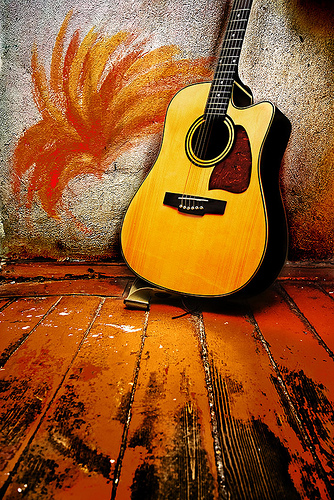guitar: (119, 1, 292, 303)
